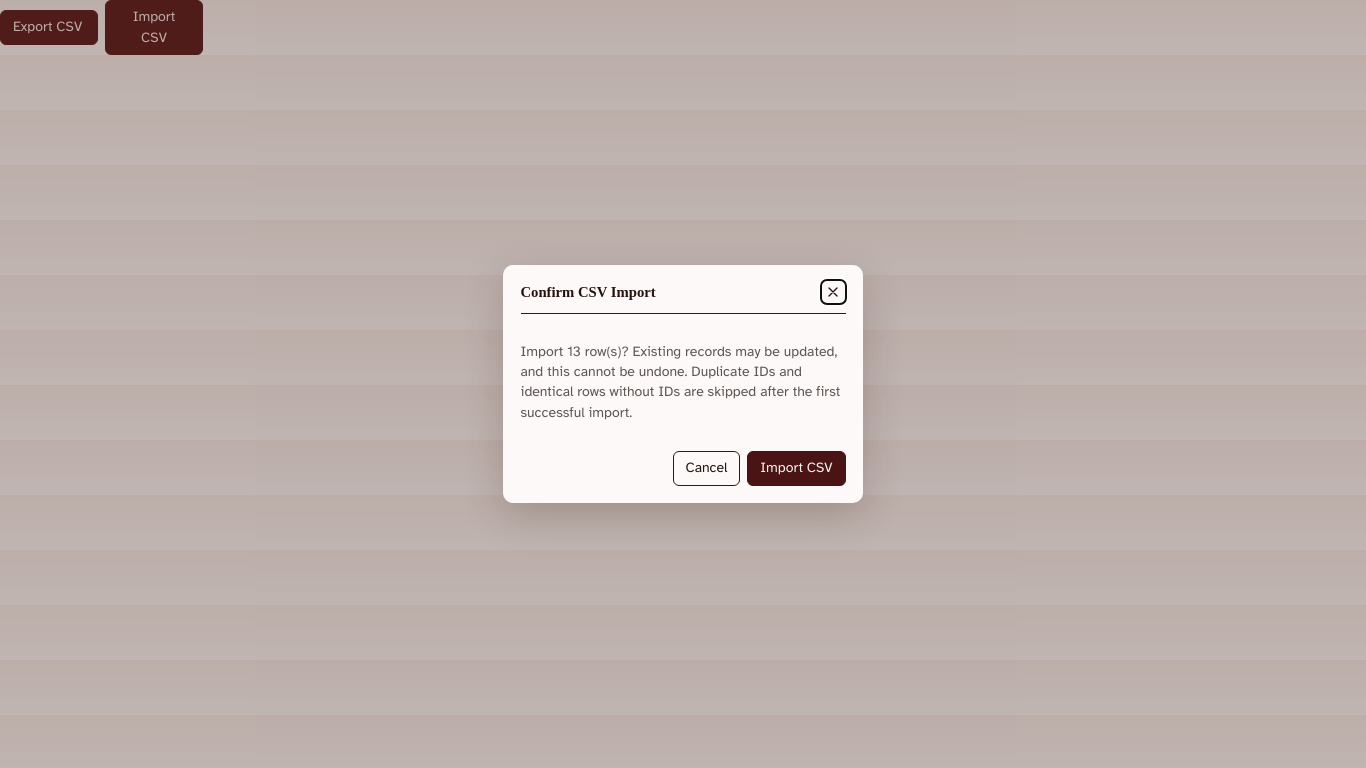
Test: CsvTransfer › requires confirmation, skips duplicate IDs, and counts only successful records
Earlier steps of the test are not shown.
Click the button "Import CSV" at (796,468), box left=747, top=451, right=846, bottom=486
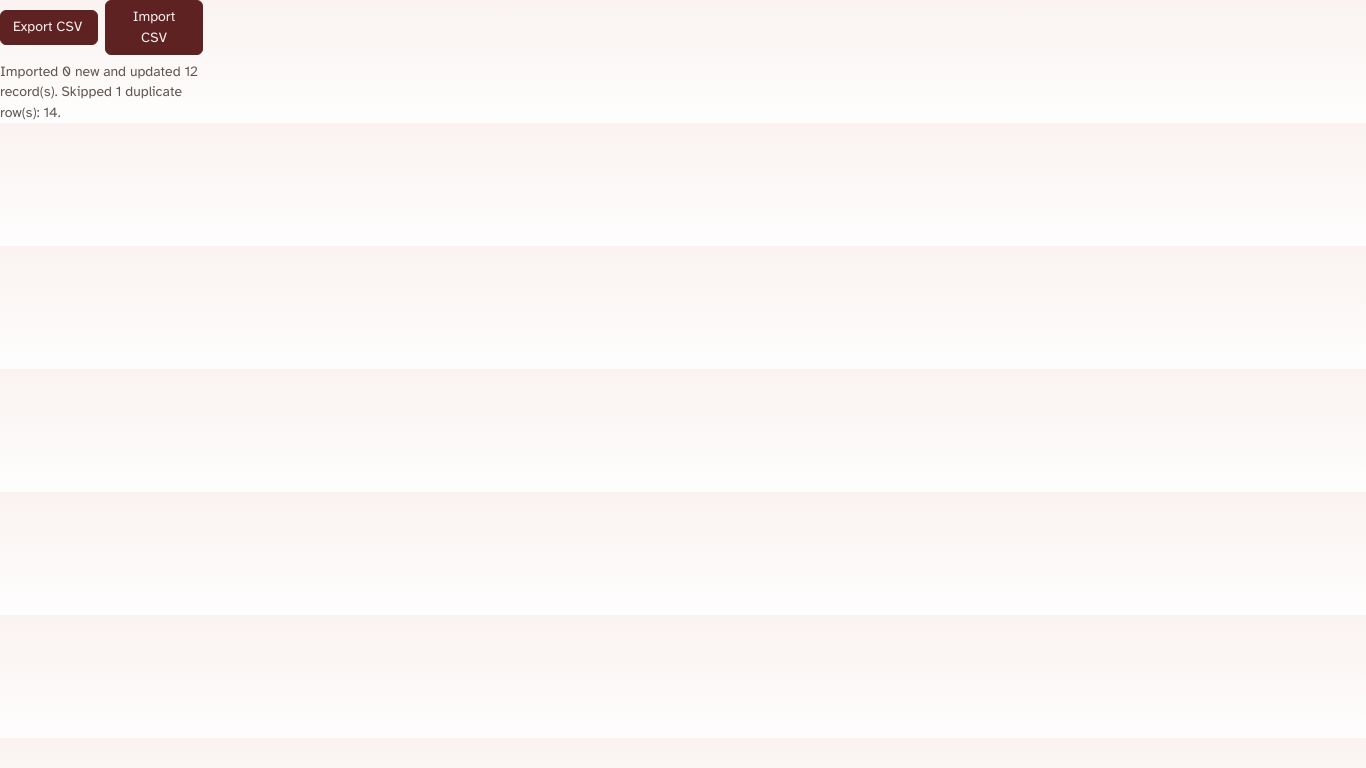
Check: the message reads "Imported 0 new and updated 12 record(s). Skipped 1 duplicate row(s): 14.", box left=0, top=63, right=198, bottom=121
